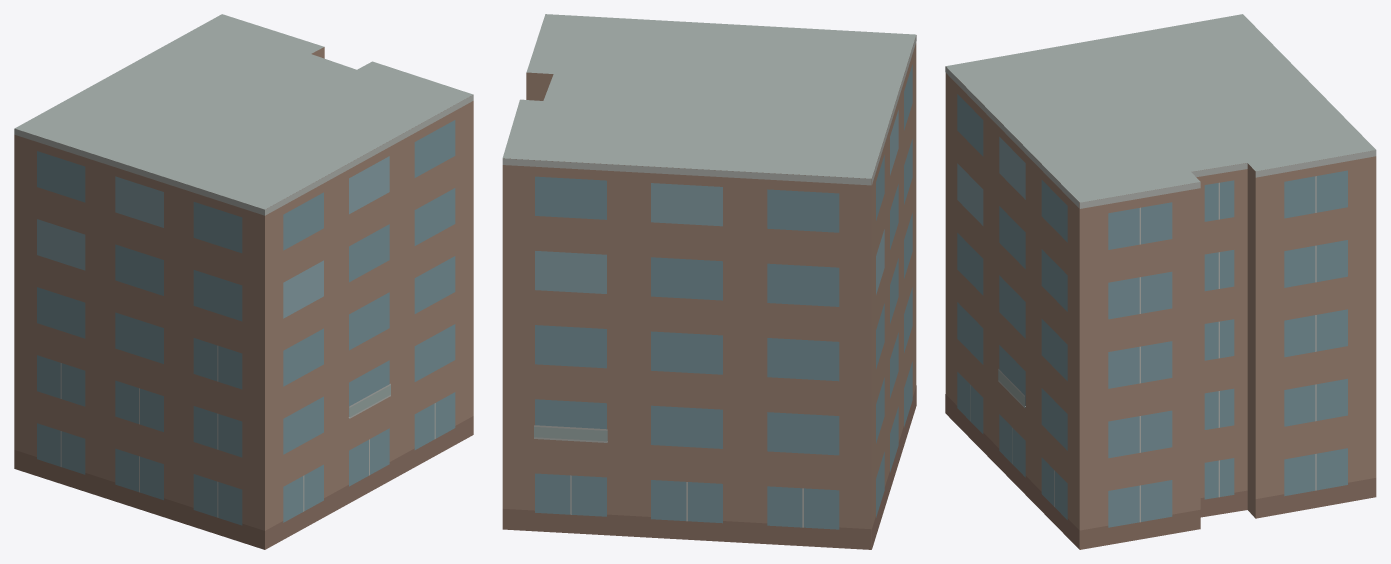
File: survey-upis-32730141.glb
The picture shows the model from 3 angles, left to right: view 1: azimuth 30°, elevation 25°; view 2: azimuth 150°, elevation 25°; view 3: azimuth 270°, elevation 25°; orthographic projection. The views are drawn at different scales.
Parts seen in each view (by area): view 1: survey-upis-32730141.tmp; view 2: survey-upis-32730141.tmp; view 3: survey-upis-32730141.tmp.
Boxes of the visible parts, left/top/right/bottom form: survey-upis-32730141.tmp: left=14, top=14, right=473, bottom=549; survey-upis-32730141.tmp: left=502, top=14, right=916, bottom=549; survey-upis-32730141.tmp: left=945, top=14, right=1376, bottom=549.
Size of the model in its own units: 15.87 by 13.6 by 15.31.
